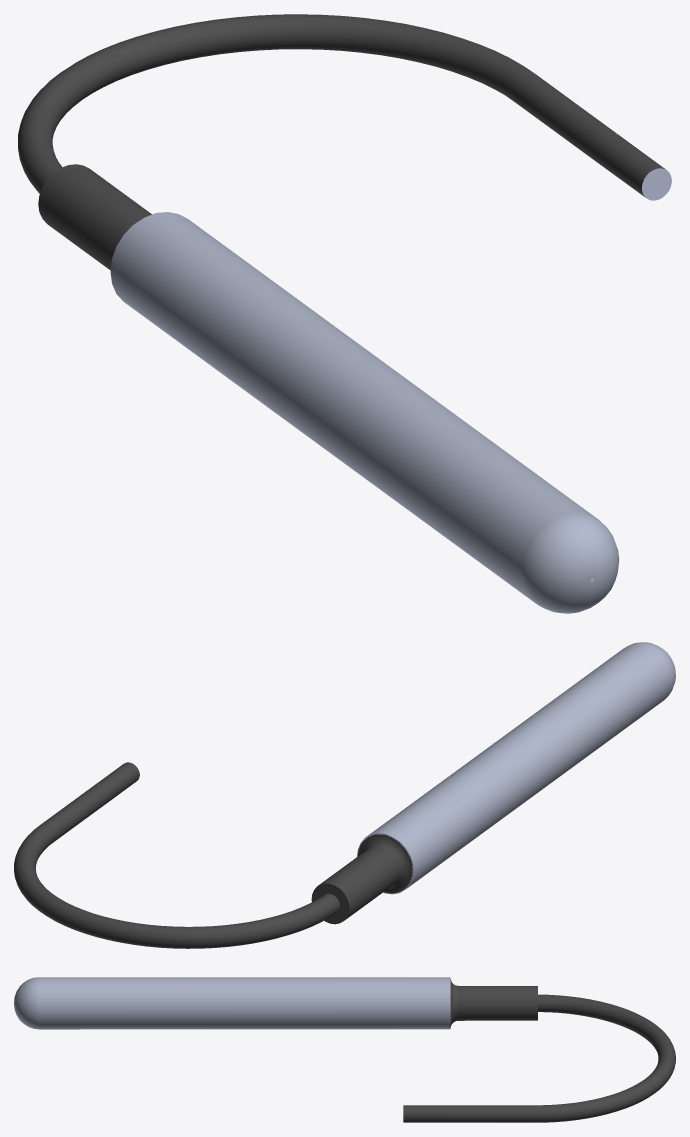
The picture shows the model from 3 angles, top to bottom: view 1: azimuth 30°, elevation 25°; view 2: azimuth 150°, elevation 25°; view 3: azimuth 270°, elevation 25°; orthographic projection. The views are drawn at different scales.
Visible parts, largest first — view 1: ds18b20; view 2: ds18b20; view 3: ds18b20.
Boxes of the visible parts, box(x1,y1,x2,y2) form: ds18b20: box(18, 14, 671, 613); ds18b20: box(14, 642, 675, 948); ds18b20: box(14, 977, 675, 1122).
Bounding box in the file's own units: 0.034 × 0.00601 × 0.0758.
